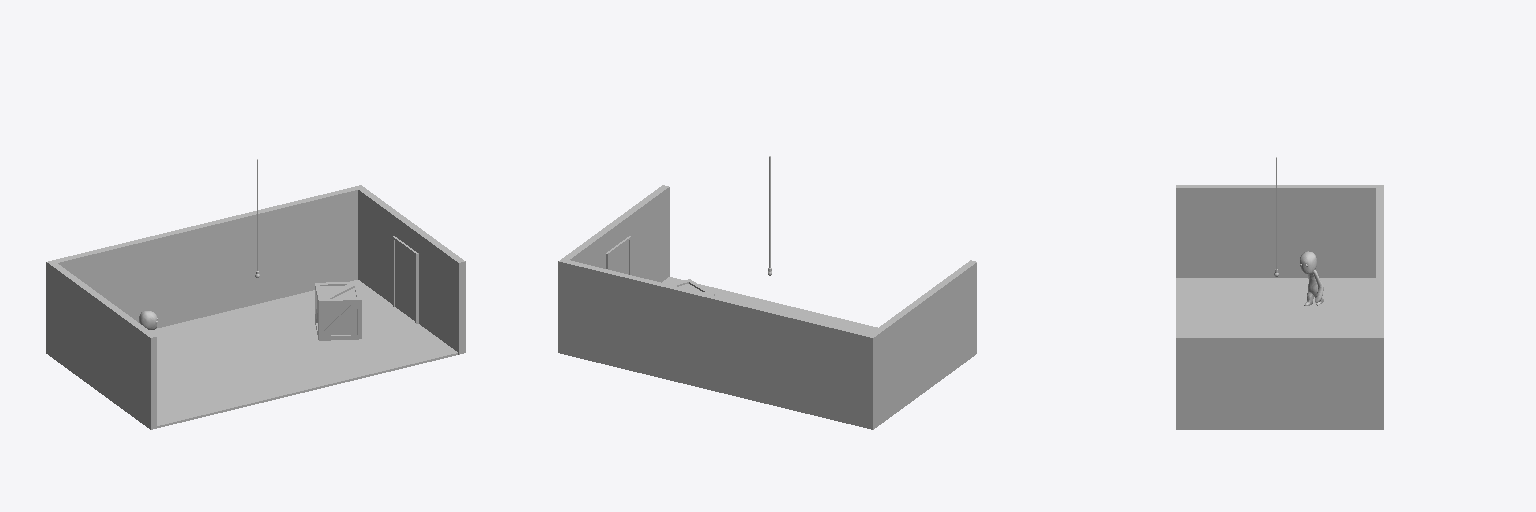
The picture shows the model from 3 angles: view 1: azimuth 30°, elevation 25°; view 2: azimuth 150°, elevation 25°; view 3: azimuth 270°, elevation 25°; orthographic projection.
Parts seen in each view (by area): view 1: Room, Floor, Wodden_Box, Portal; view 2: Room, Floor; view 3: Room, Floor, Ragdoll_Mesh.
Boxes of the visible parts, box(x1,y1,x2,y2) form: Room: box(46, 185, 465, 429); Floor: box(149, 280, 457, 427); Wodden_Box: box(315, 281, 361, 340); Portal: box(395, 241, 414, 320); Room: box(558, 185, 976, 429); Floor: box(662, 277, 877, 333); Room: box(1176, 185, 1383, 429); Floor: box(1176, 278, 1375, 334); Ragdoll_Mesh: box(1300, 251, 1323, 305).
Size of the model in its own units: 158 by 93.84 by 90.36.